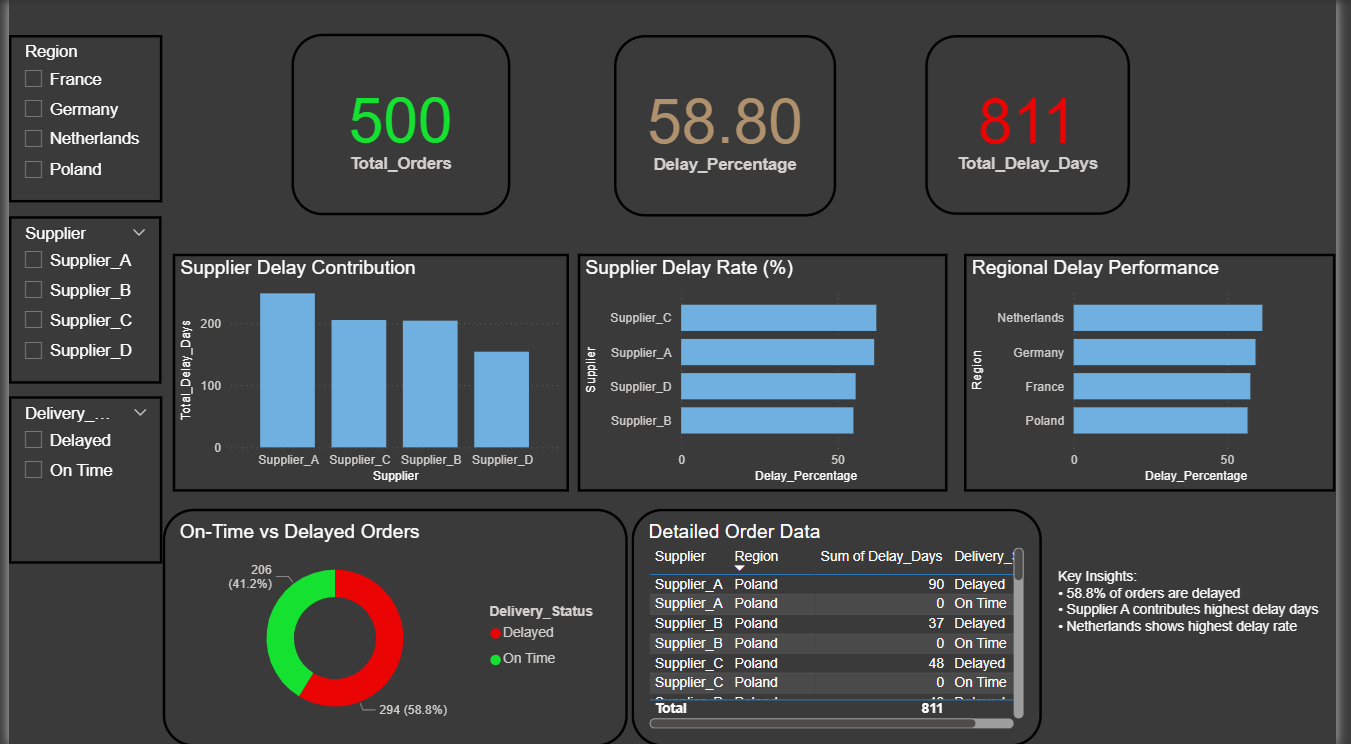

The page's visual inventory and layout, read from the dashboard file:
{"tool":"powerbi","page":{"name":"Page 1","canvas":[1280,720],"ordinal":0},"visuals":[{"type":"card","fields":{"Values":["supply_chain_dataset.Total_Orders"]},"box":[272.7,32.6,211.1,174.9],"z":0},{"type":"card","fields":{"Values":["supply_chain_dataset.Delay_Percentage"]},"box":[583.9,33.8,214.7,174.9],"z":1000},{"type":"card","fields":{"Values":["supply_chain_dataset.Total_Delay_Days"]},"box":[884.3,33.8,197.9,173.7],"z":2000},{"type":"clusteredColumnChart","title":"Supplier Delay Contribution","fields":{"Category":["supply_chain_dataset.Supplier"],"Y":["supply_chain_dataset.Total_Delay_Days"]},"box":[158,244.9,382.4,229.2],"z":3000},{"type":"barChart","title":"Supplier Delay Rate (%)","fields":{"Category":["supply_chain_dataset.Supplier"],"Y":["supply_chain_dataset.Delay_Percentage"]},"box":[548.9,244.9,357.1,229.2],"z":4000},{"type":"clusteredBarChart","title":"Regional Delay Performance","fields":{"Category":["supply_chain_dataset.Region"],"Y":["supply_chain_dataset.Delay_Percentage"]},"box":[921.7,244.9,358.3,229.2],"z":5000},{"type":"donutChart","title":"On-Time vs Delayed Orders","fields":{"Category":["supply_chain_dataset.Delivery_Status"],"Y":["CountNonNull(supply_chain_dataset.Order_ID)"]},"box":[148.4,491,448.8,229.2],"z":6000},{"type":"tableEx","title":"Detailed Order Data","fields":{"Values":["supply_chain_dataset.Supplier","supply_chain_dataset.Region","Sum(supply_chain_dataset.Delay_Days)","supply_chain_dataset.Delivery_Status"]},"box":[600.8,491,395.7,229.2],"z":7000},{"type":"slicer","fields":{"Values":["supply_chain_dataset.Region"]},"box":[0,33.8,148.4,161.7],"z":8000},{"type":"slicer","fields":{"Values":["supply_chain_dataset.Supplier"]},"box":[0,208.7,147.2,161.7],"z":9000},{"type":"slicer","fields":{"Values":["supply_chain_dataset.Delivery_Status"]},"box":[0,382.4,148.4,161.7],"z":10000},{"type":"textbox","box":[1007.4,544.1,272.7,106.2],"z":10001}]}

Visuals, with their boxes in screenshot pixels (x1, y1, x2, y2), scaled from the page's 1280x720 canvas onto the 1351x744 screenshot:
card - supply_chain_dataset.Total_Orders: (288,34,511,214)
card - supply_chain_dataset.Delay_Percentage: (616,35,843,216)
card - supply_chain_dataset.Total_Delay_Days: (933,35,1142,214)
"Supplier Delay Contribution" clusteredColumnChart: (167,253,570,490)
"Supplier Delay Rate (%)" barChart: (579,253,956,490)
"Regional Delay Performance" clusteredBarChart: (973,253,1350,490)
"On-Time vs Delayed Orders" donutChart: (157,507,630,743)
"Detailed Order Data" tableEx: (634,507,1052,743)
slicer - supply_chain_dataset.Region: (0,35,157,202)
slicer - supply_chain_dataset.Supplier: (0,216,155,383)
slicer - supply_chain_dataset.Delivery_Status: (0,395,157,562)
textbox: (1063,562,1350,672)
